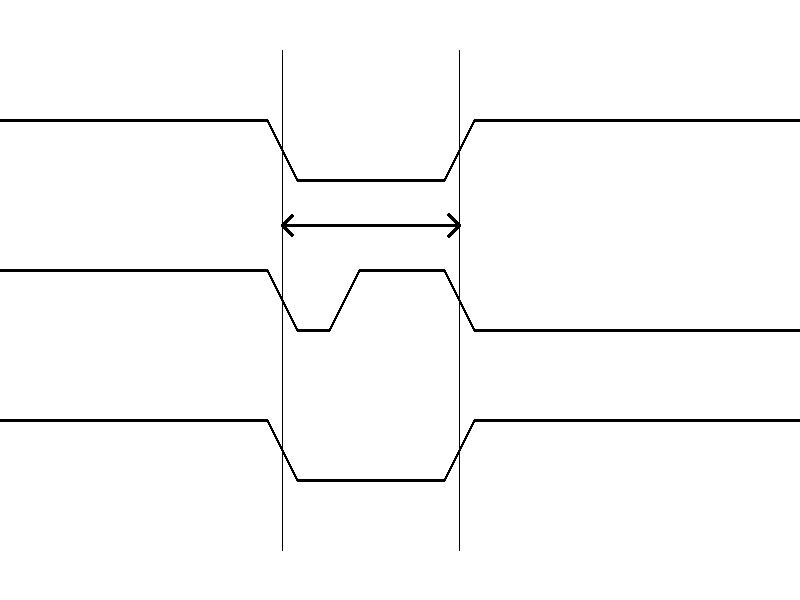double_arrow: (282, 210, 459, 240)
